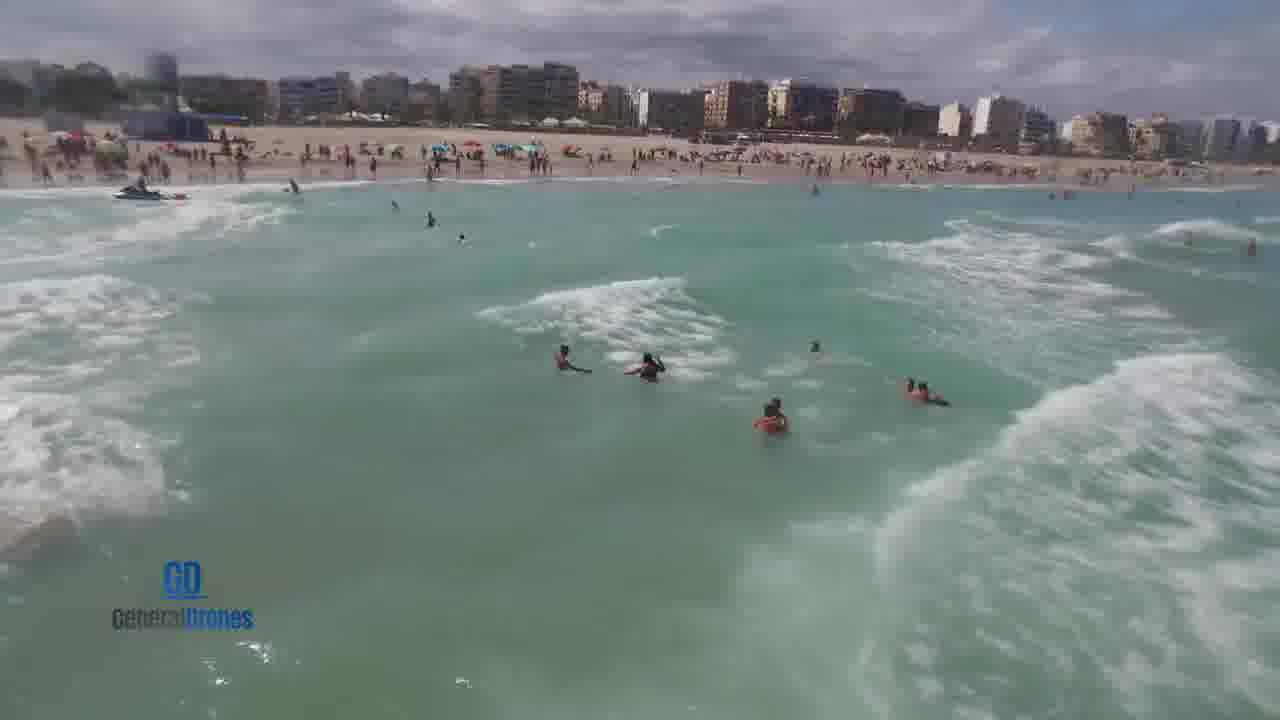swimmer: (539, 335, 593, 379), (613, 349, 673, 388), (747, 404, 789, 442), (763, 388, 805, 422), (913, 372, 951, 409), (892, 365, 916, 397)
